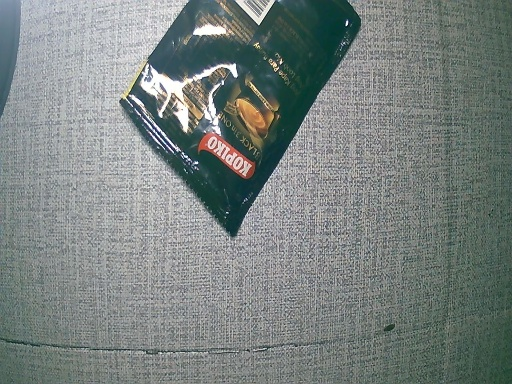plastic: (115, 1, 356, 244)
